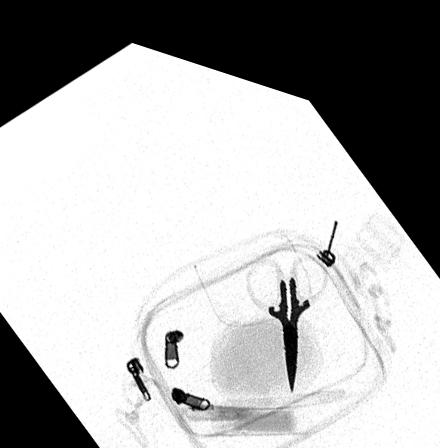Scissors: (239, 228, 331, 375)
